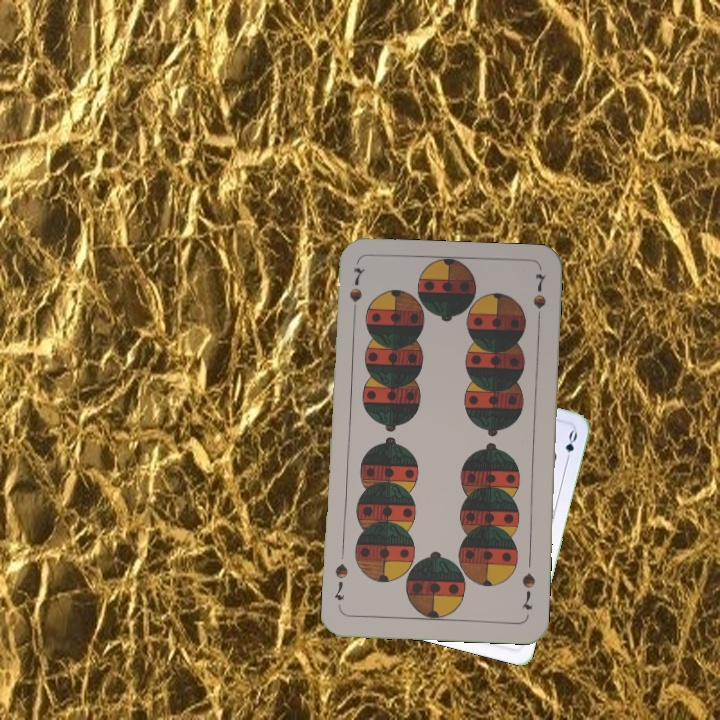S7: (345, 263, 367, 321), (517, 569, 538, 613)
